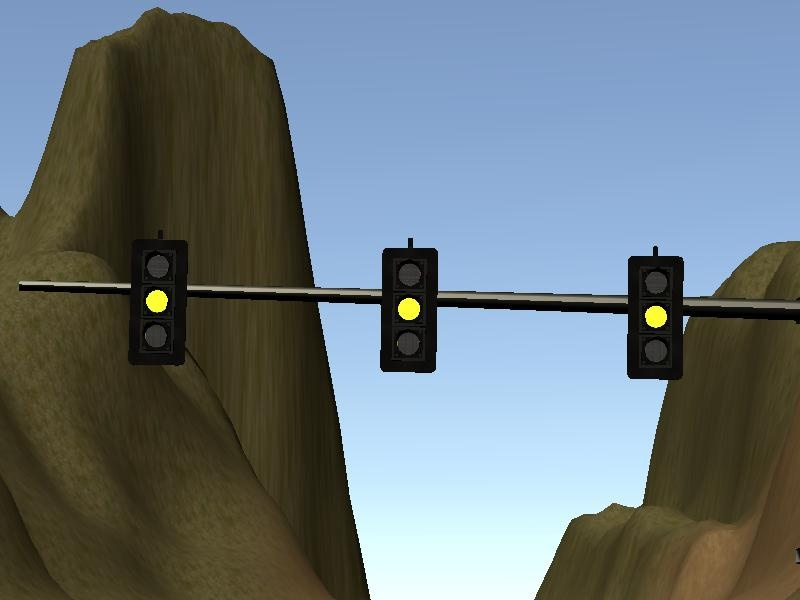yellow: (130, 237, 187, 367), (381, 247, 437, 373), (627, 256, 681, 376)
